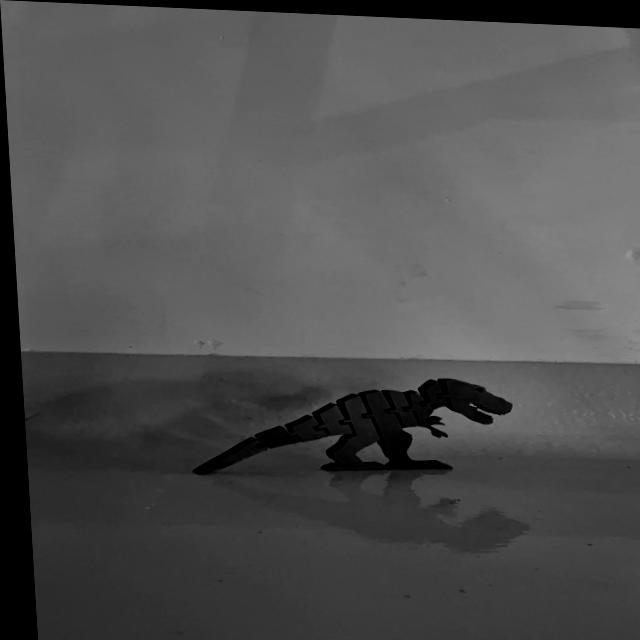dino: (185, 366, 520, 490)
